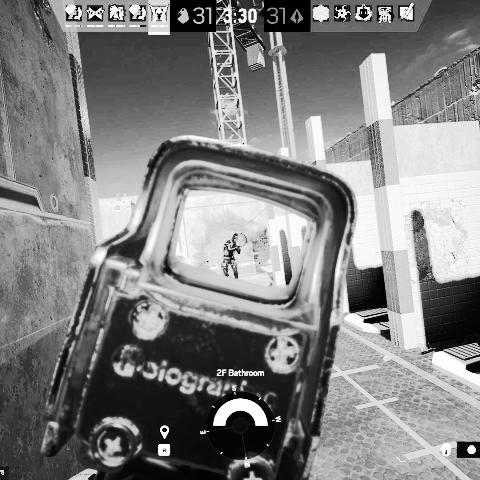Character: (222, 232, 242, 280)
Head: (232, 232, 238, 243)
